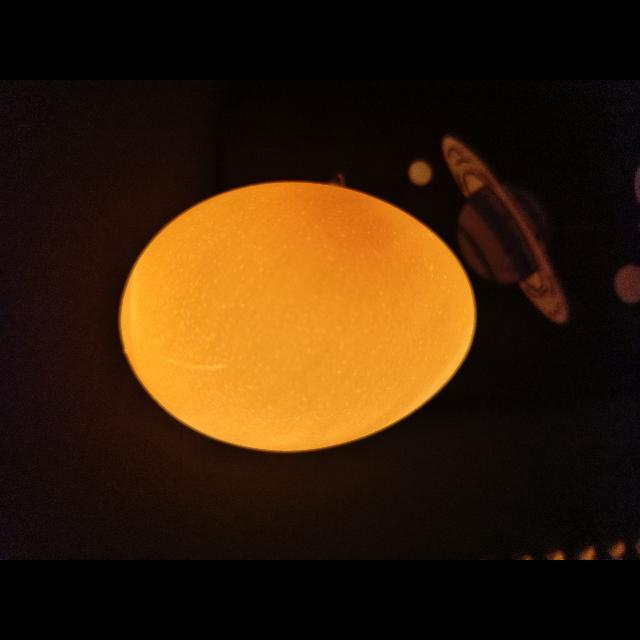AA - Premium: (120, 183, 475, 451)
